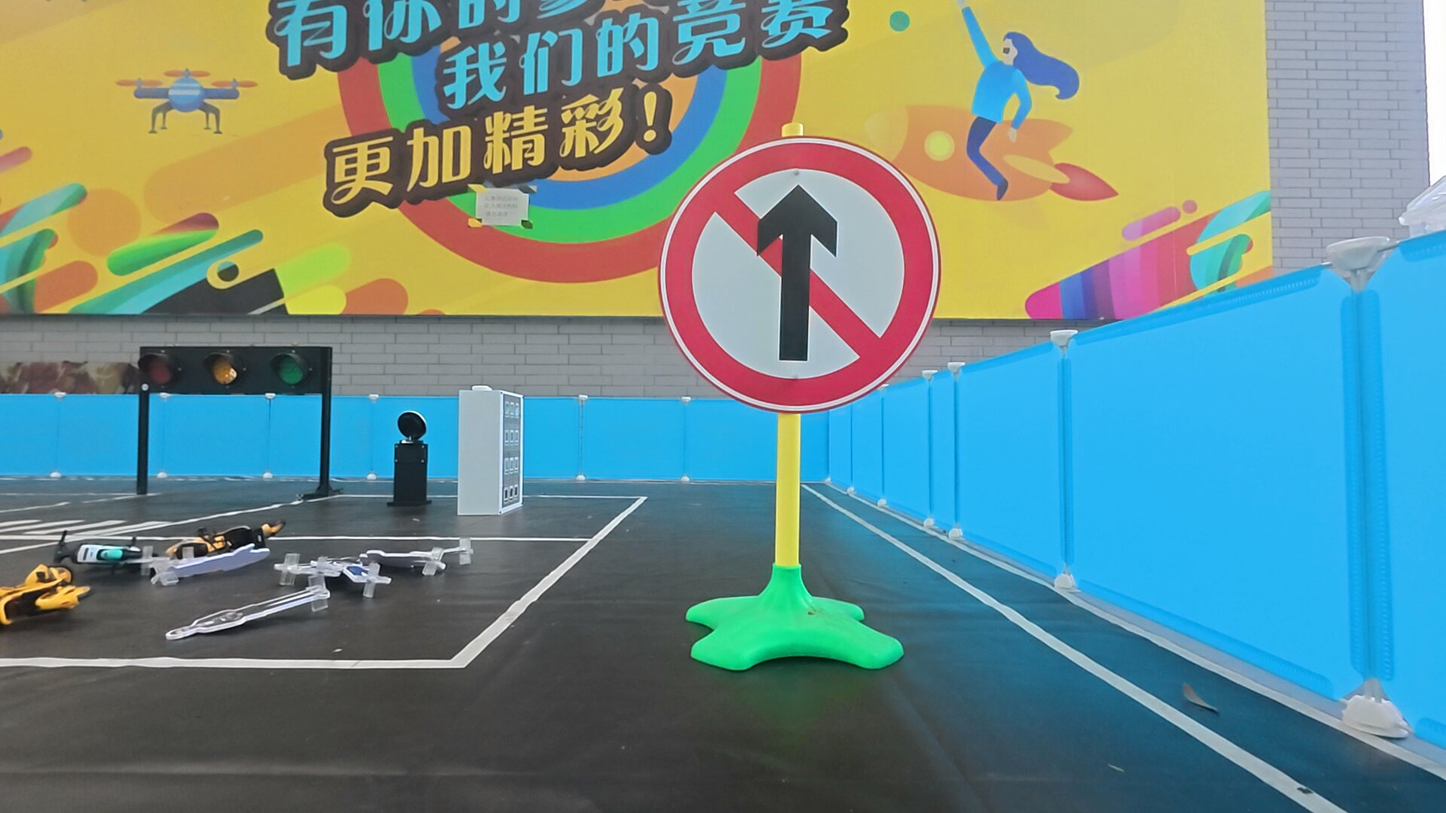obstacle: (652, 133, 945, 419)
